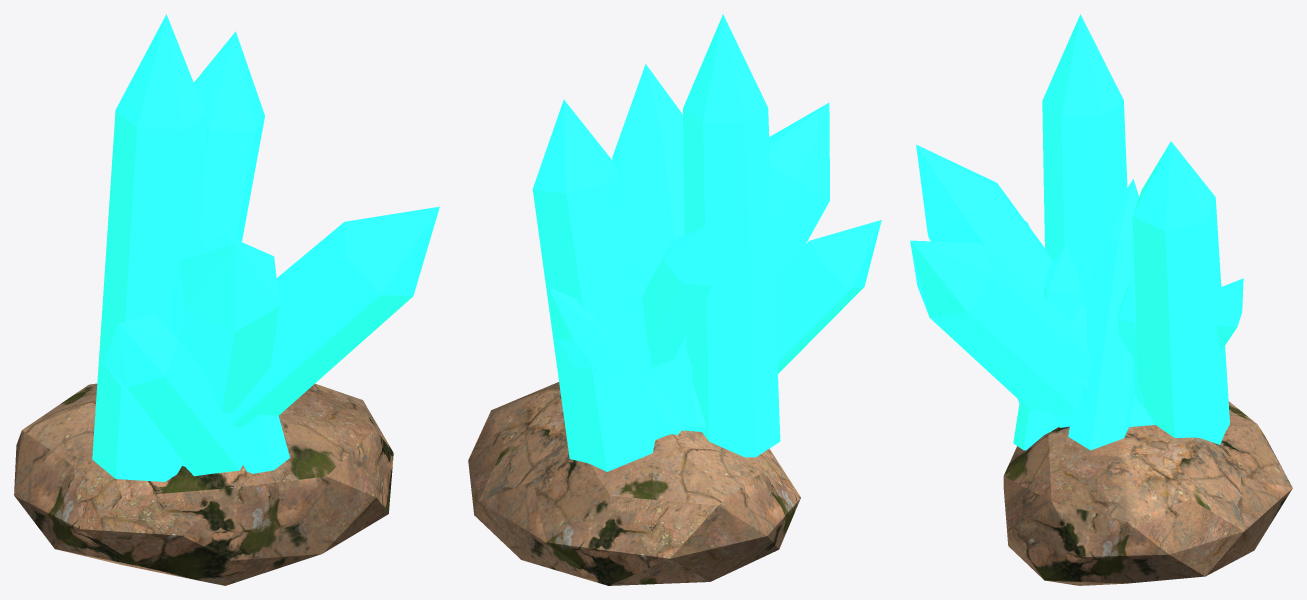
File: Crystal_Teal_S.fbx
The picture shows the model from 3 angles, left to right: view 1: azimuth 30°, elevation 25°; view 2: azimuth 150°, elevation 25°; view 3: azimuth 270°, elevation 25°; orthographic projection. The views are drawn at different scales.
Visible parts, largest first — view 1: Crystal_Teal_S; view 2: Crystal_Teal_S; view 3: Crystal_Teal_S.
Part boxes in pixels (bbox=[...]): Crystal_Teal_S: bbox=[14, 14, 439, 585]; Crystal_Teal_S: bbox=[468, 14, 881, 585]; Crystal_Teal_S: bbox=[910, 14, 1292, 585].
Size of the model in its own units: 1.54 by 2.5 by 1.69.
